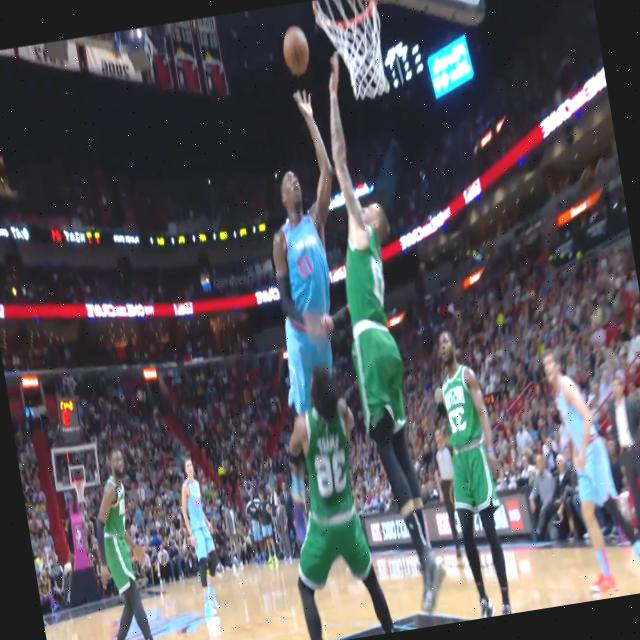Foul: (236, 150, 385, 625)
